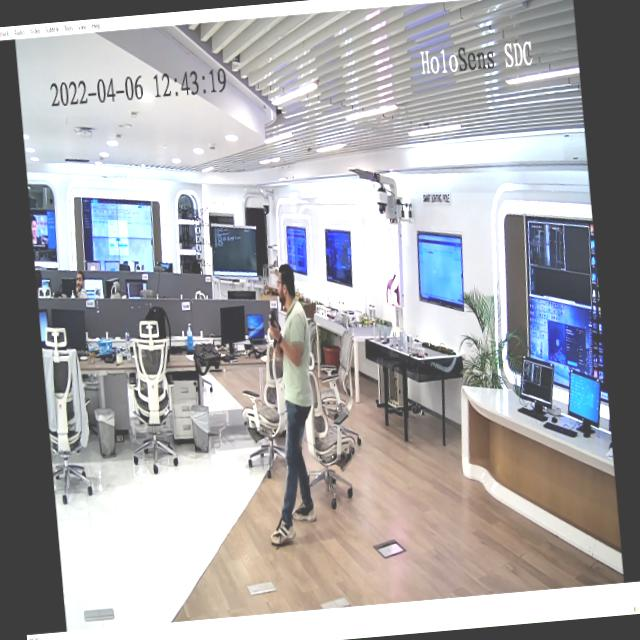long weapon: (262, 297, 290, 360)
